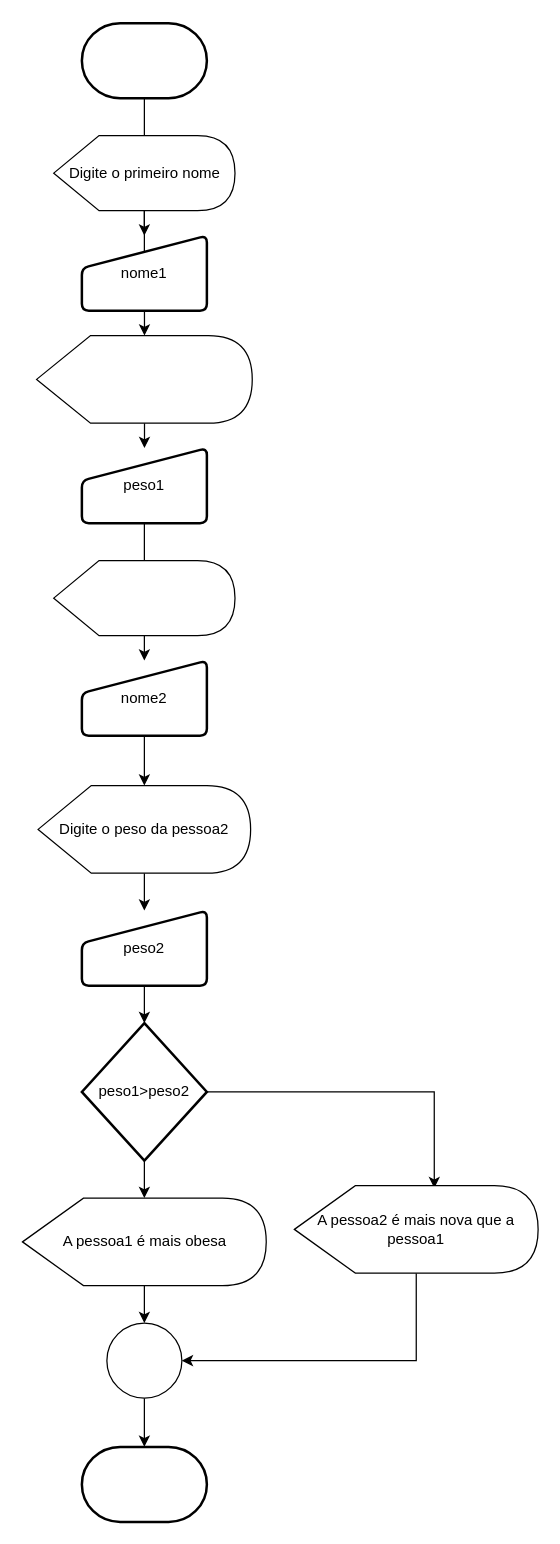
The diagram is 560 pixels wide and 1544 high, and some of its shapes have lost their labels. The box of each missing label's shape, as (x1, y1, x2, y2) in pixels:
Digite o peso da pessoa1: (35, 334, 252, 423)
Digite o segundo nome: (52, 559, 235, 636)
fim: (80, 1445, 208, 1522)
inicio: (80, 21, 208, 99)
